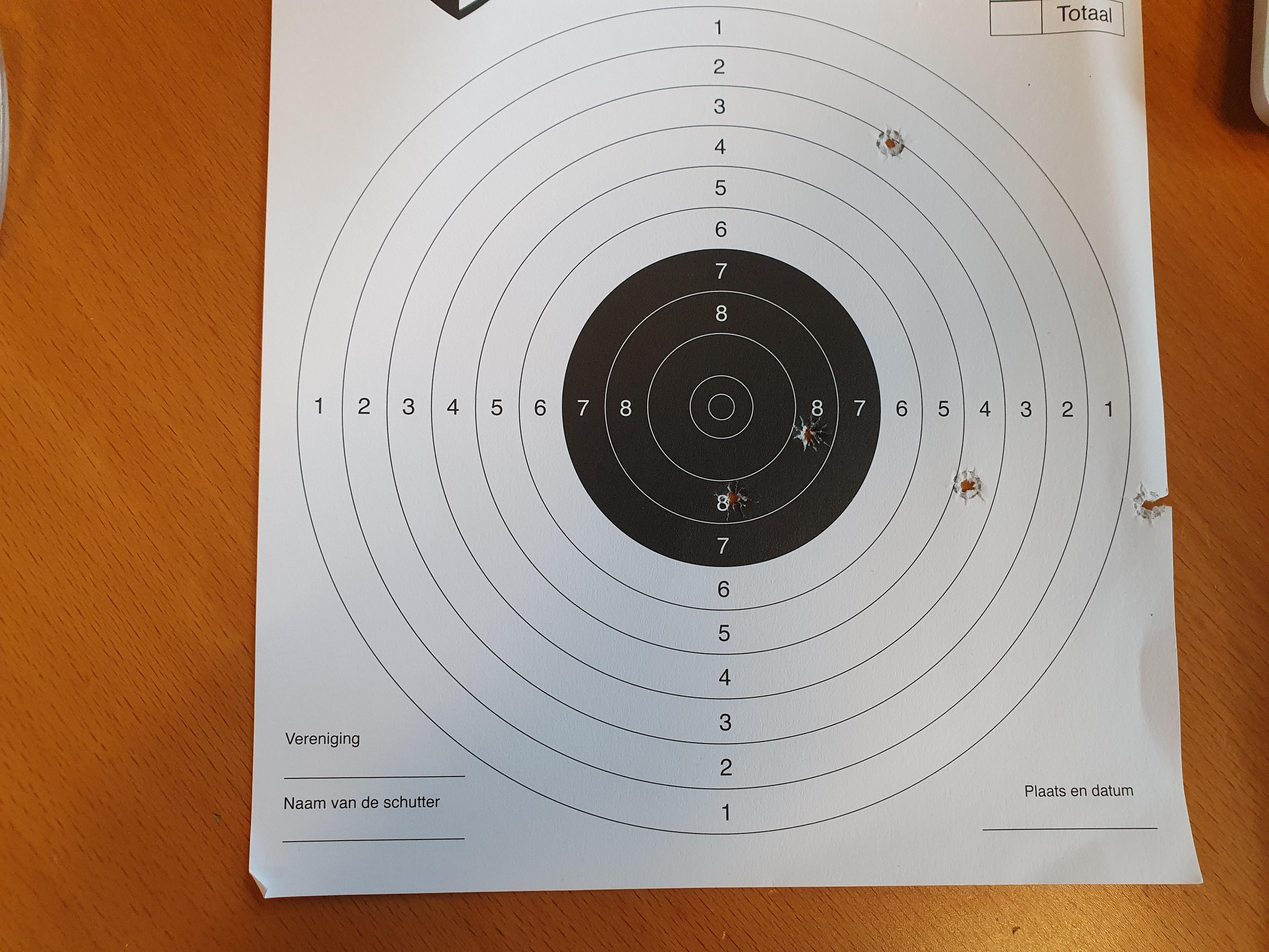hole: (659, 593, 719, 625), (576, 537, 629, 568), (567, 847, 624, 875), (598, 713, 646, 741), (1056, 656, 1101, 680)
